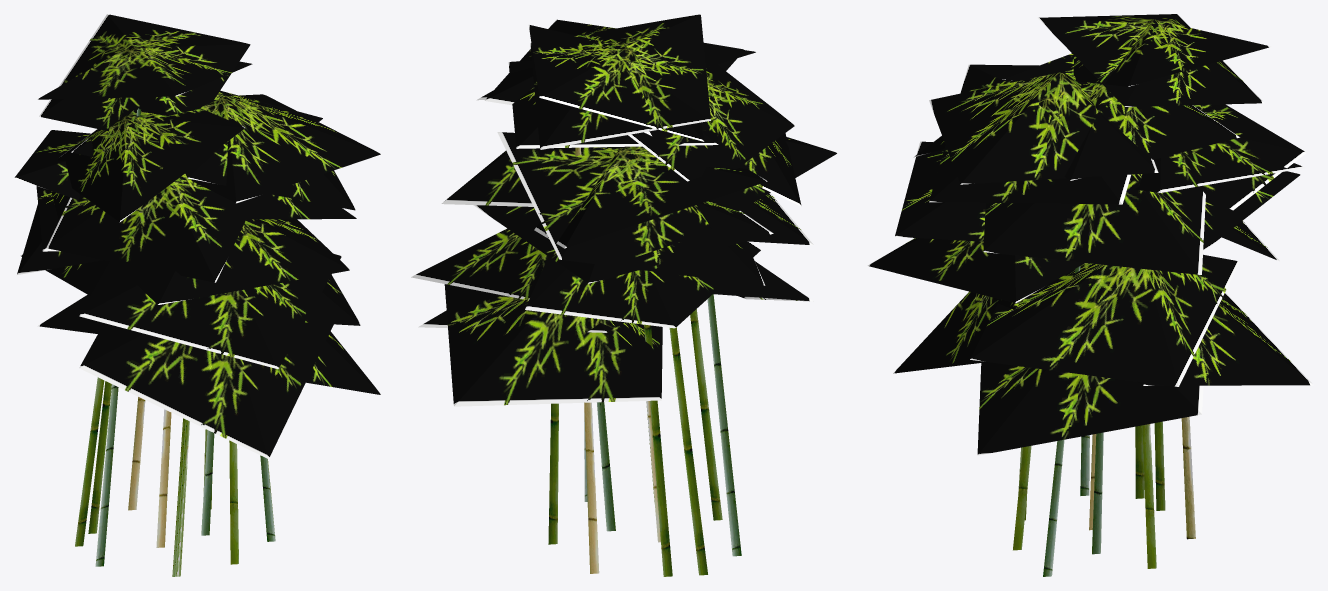
The model's file is bamboo_c.dae.
3 views of the same model, side by side, from view 1: azimuth 30°, elevation 25°; view 2: azimuth 150°, elevation 25°; view 3: azimuth 270°, elevation 25° (orthographic). The views are drawn at different scales.
Parts seen in each view (by area): view 1: Tube_002; view 2: Tube_002; view 3: Tube_002.
Part boxes in pixels (bbox=[...]): Tube_002: bbox=[14, 14, 381, 576]; Tube_002: bbox=[411, 14, 837, 576]; Tube_002: bbox=[867, 14, 1313, 576].
Bounding box in the file's own units: 8.42 × 9.63 × 12.16.
